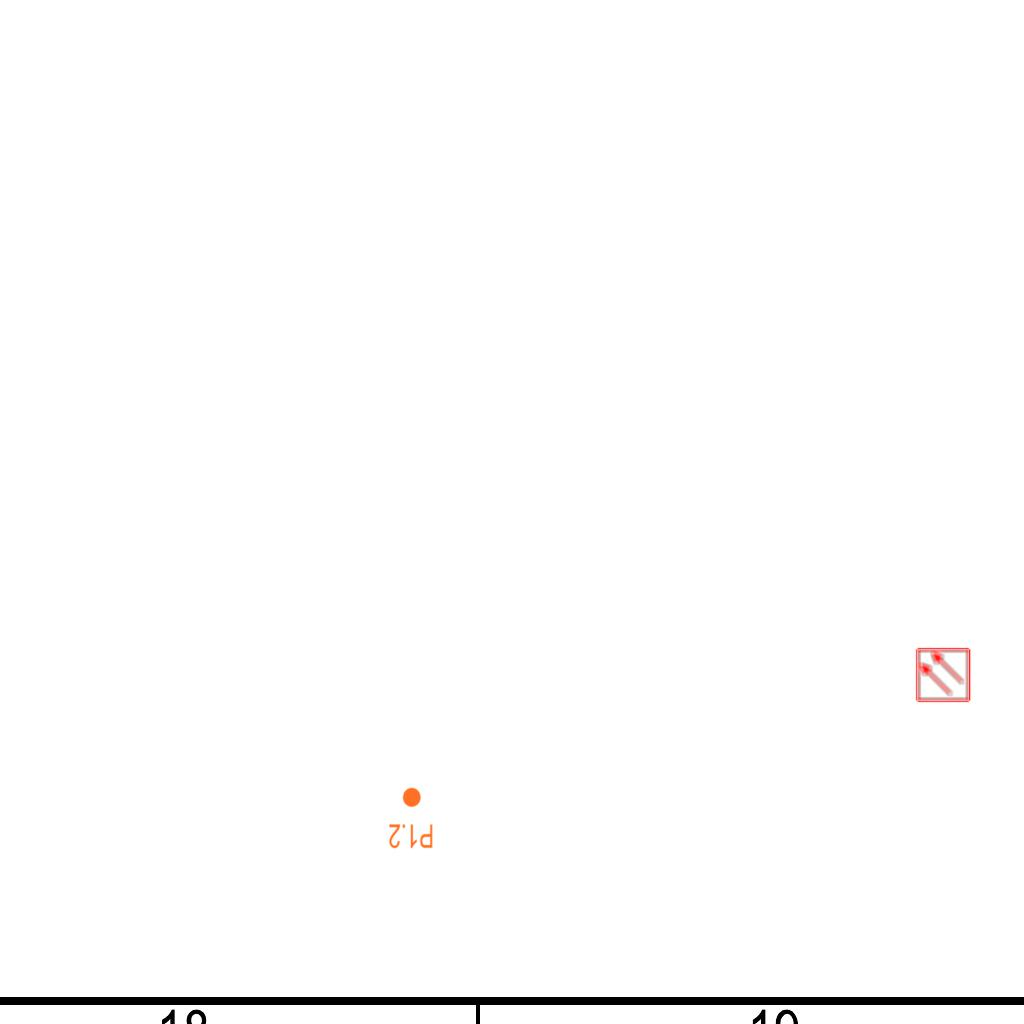Downlight_LED_Einbauleuchten_Flur: (388, 786, 434, 850)
RMO_Rauchmelder_optischer: (915, 647, 971, 703)
